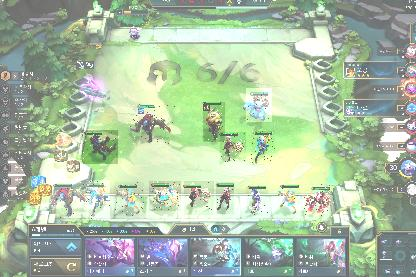1_diana: (216, 182, 234, 214)
1_leesin: (86, 180, 110, 220), (251, 131, 275, 165)
1_nunu: (246, 88, 272, 122), (254, 132, 256, 134)
1_olaf: (304, 184, 334, 216)
1_rakan: (184, 181, 214, 215), (220, 132, 246, 162)
1_rengar: (127, 104, 175, 146), (52, 182, 86, 218)
1_seraphine: (149, 181, 181, 211)
1_sylas: (82, 130, 118, 164)
1_varus: (246, 186, 268, 216)
1_volibear: (203, 102, 225, 142)
1_zeri: (114, 182, 144, 216), (278, 184, 300, 214)
